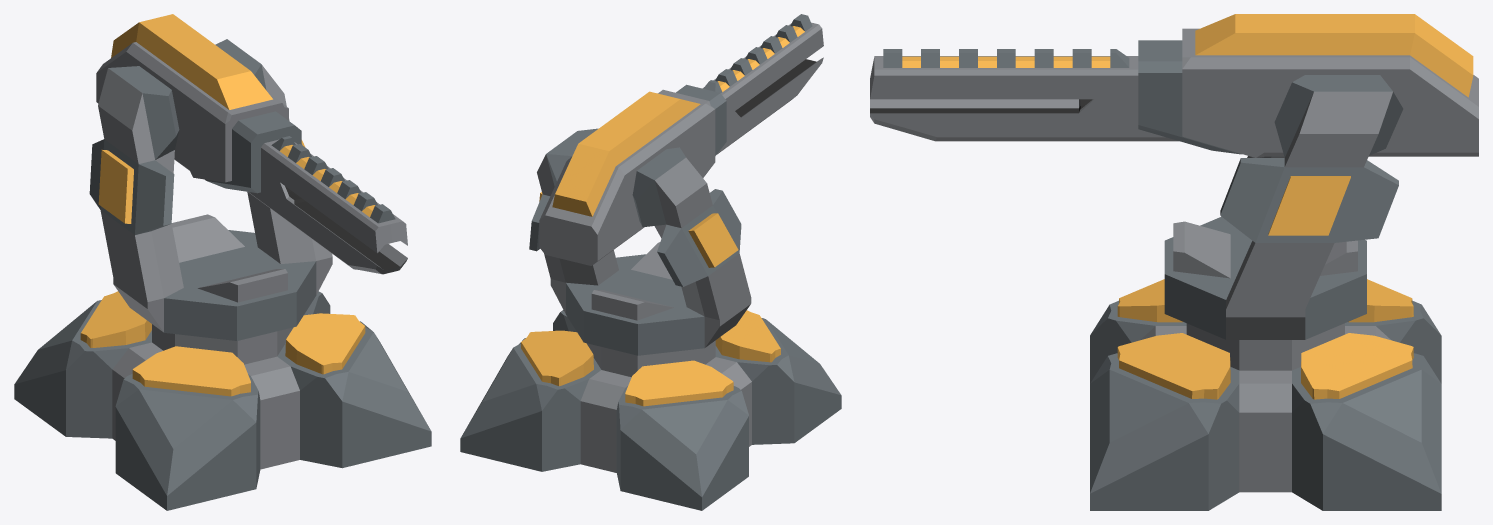
The model's file is Medium Railgun Turret.fbx.
3 views of the same model, side by side, from view 1: azimuth 30°, elevation 25°; view 2: azimuth 150°, elevation 25°; view 3: azimuth 270°, elevation 25° (orthographic). The views are drawn at different scales.
Visible parts, largest first — view 1: Base, Turret, TurretHead.003; view 2: Base, Turret, TurretHead.003; view 3: Base, TurretHead.003, Turret.
Part boxes in pixels (x1,y1,x2,y2): Base: [14, 291, 431, 510]; Turret: [89, 39, 332, 340]; TurretHead.003: [96, 14, 407, 274]; Base: [460, 310, 841, 510]; Turret: [529, 128, 751, 355]; TurretHead.003: [539, 14, 823, 265]; Base: [1090, 279, 1441, 510]; TurretHead.003: [870, 14, 1478, 157]; Turret: [1164, 75, 1403, 339].
Bounding box in the file's own units: 80 × 103 × 138.
